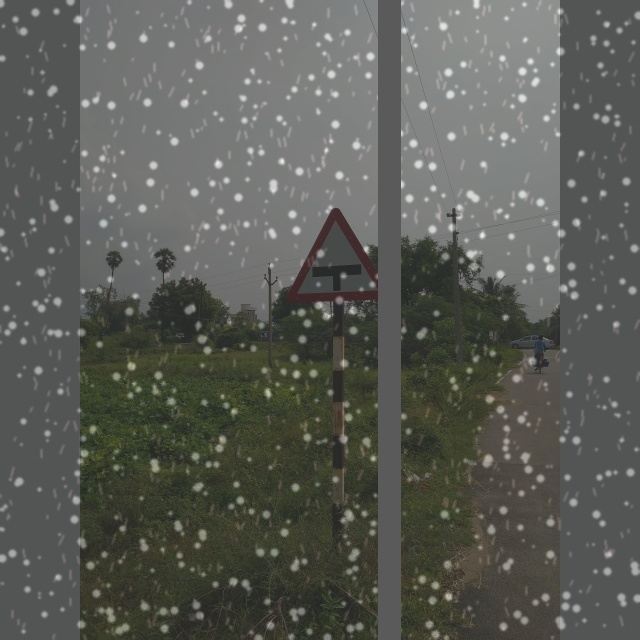T_Intersection: (274, 189, 393, 312)
